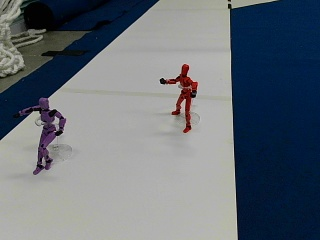pedestrian: (12, 95, 65, 172), (159, 62, 197, 131)
